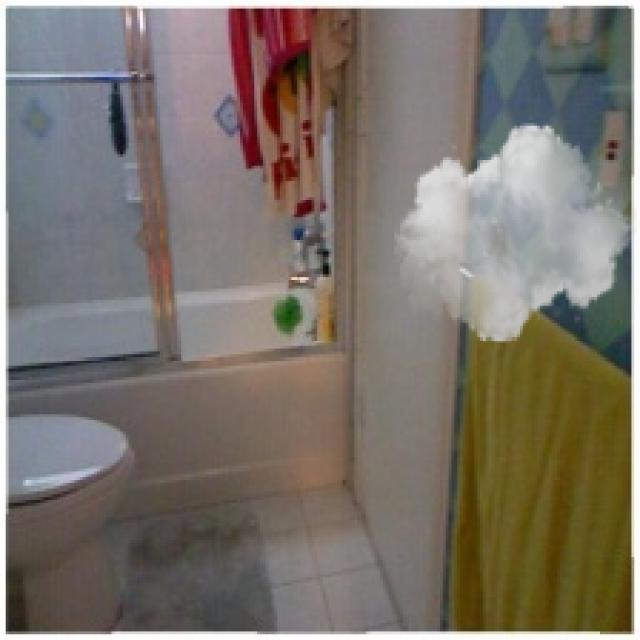smoke: (394, 115, 637, 352)
